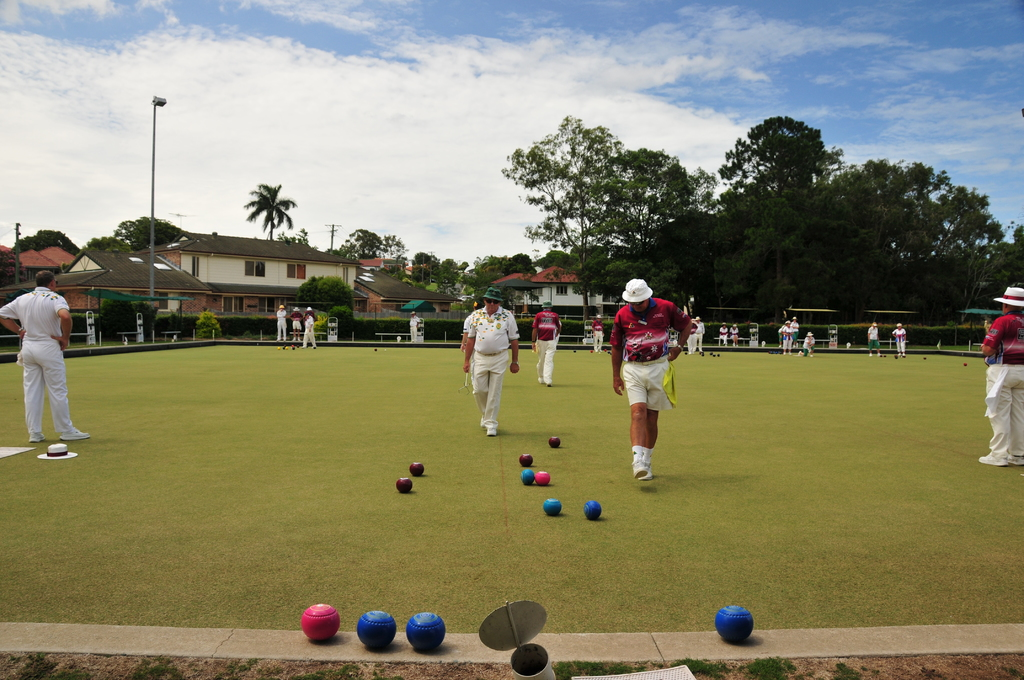Person: (609, 276, 692, 480), (0, 271, 90, 441), (459, 284, 519, 438), (979, 286, 1024, 467), (532, 299, 562, 388), (462, 295, 483, 351), (867, 323, 883, 357), (891, 325, 907, 358), (302, 307, 314, 348), (592, 311, 604, 352), (290, 306, 303, 343), (276, 303, 287, 342), (798, 331, 815, 356), (780, 320, 792, 355), (684, 318, 696, 352), (408, 310, 419, 343), (697, 317, 706, 351), (720, 322, 730, 351), (730, 321, 739, 348), (792, 315, 798, 348)
